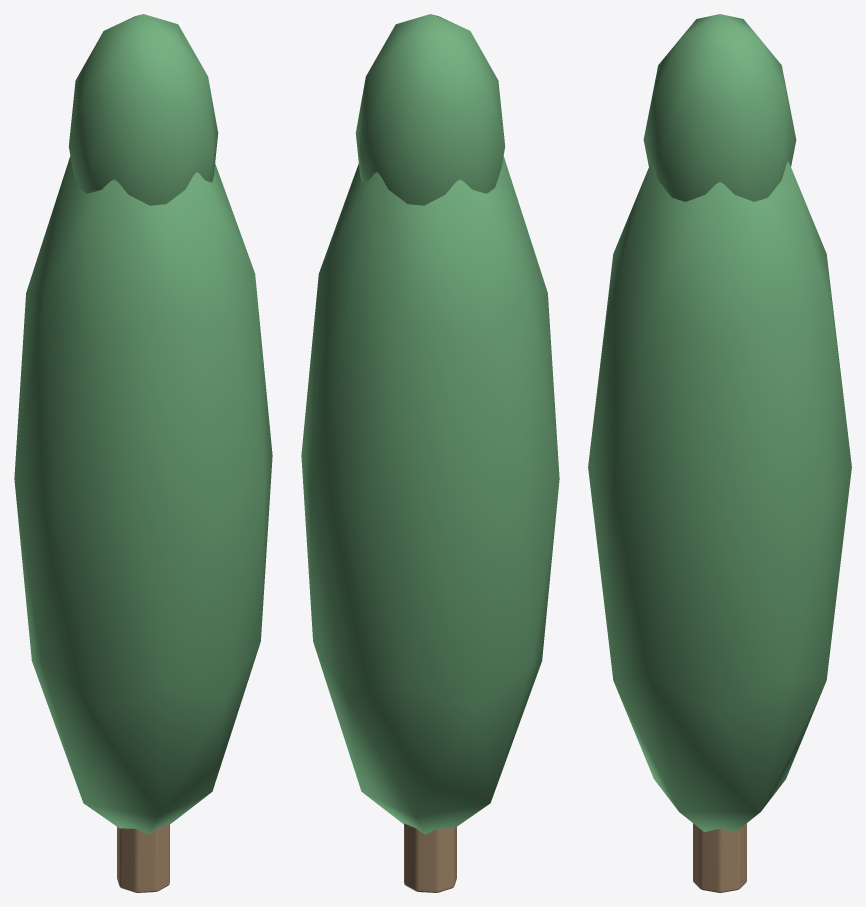
File: tree_cypress.fbx
3 views of the same model, side by side, from view 1: azimuth 30°, elevation 25°; view 2: azimuth 150°, elevation 25°; view 3: azimuth 270°, elevation 25° (orthographic).
Parts seen in each view (by area): view 1: Visual; view 2: Visual; view 3: Visual.
Part boxes in pixels (x1,y1,x2,y2): Visual: (14,14,272,892); Visual: (301,14,559,892); Visual: (588,14,851,892).
Size of what is drawn, in the model's own units: 181 by 690 by 190.
